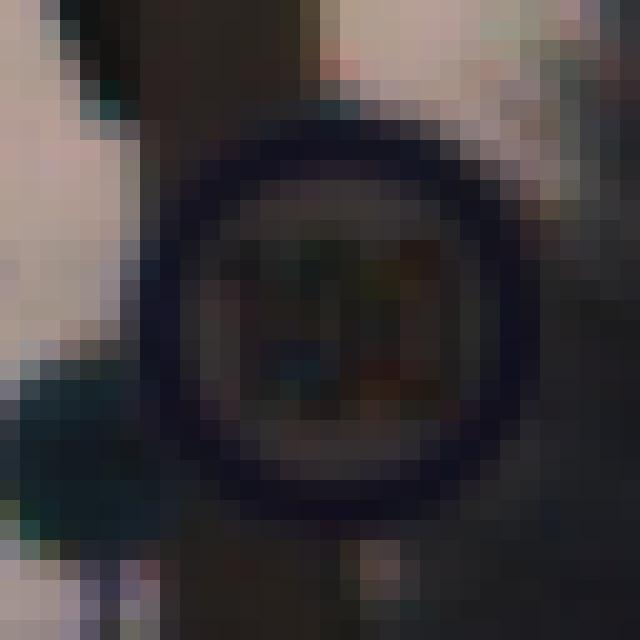SPEED LIMIT 100: (152, 145, 538, 503)
